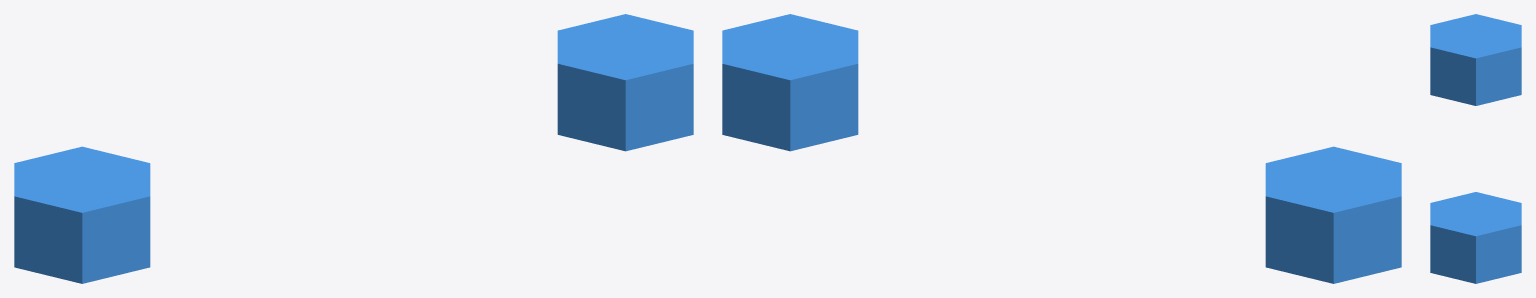
Rendered from power_generator_coils.obj.
The picture shows the model from 3 angles, left to right: view 1: azimuth 30°, elevation 25°; view 2: azimuth 150°, elevation 25°; view 3: azimuth 270°, elevation 25°; orthographic projection. The views are drawn at different scales.
Parts seen in each view (by area): view 1: Body; view 2: Body; view 3: Body.
Boxes of the visible parts, bbox=[...] form: Body: bbox=[14, 14, 693, 283]; Body: bbox=[722, 14, 1401, 283]; Body: bbox=[1430, 14, 1521, 283].
Bounding box in the file's own units: 0.5 × 0.05 × 0.0866.
